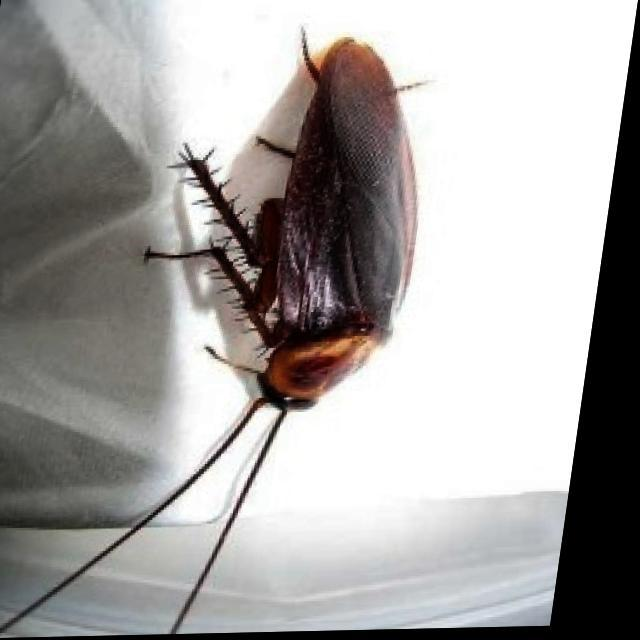cockroach: (104, 25, 453, 531)
